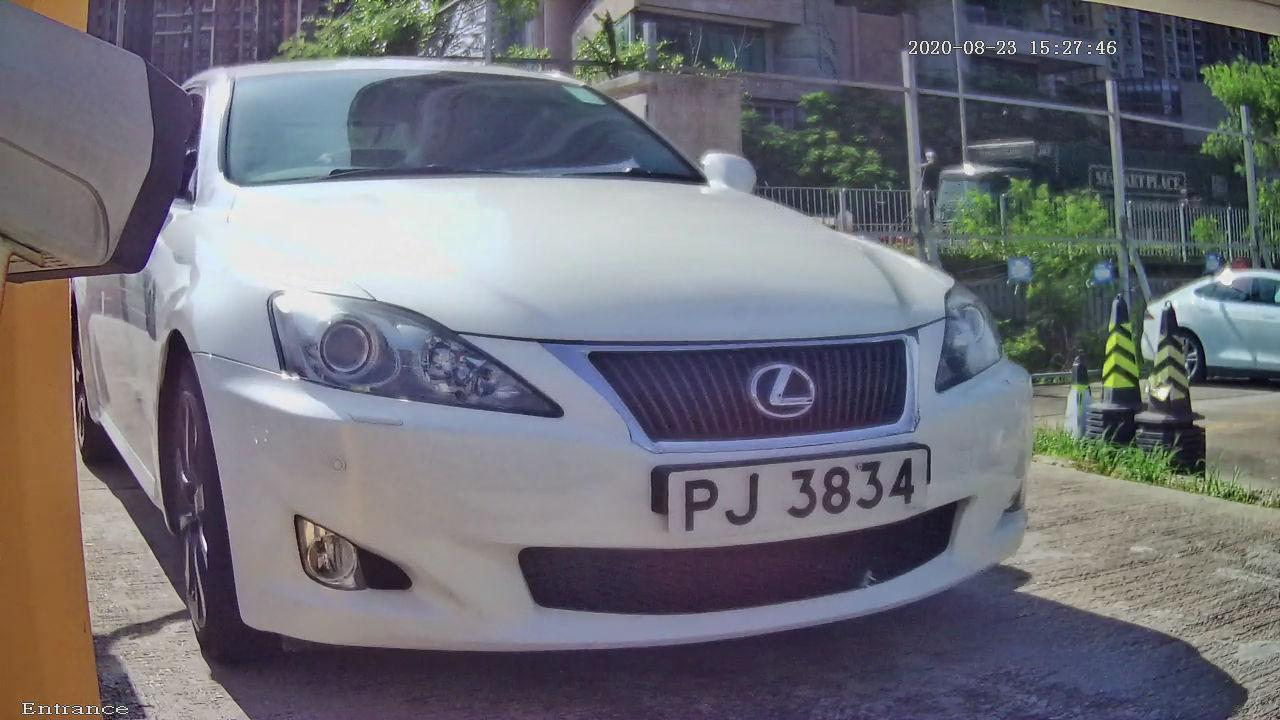Car: (46, 7, 1098, 714)
License Plate: (604, 391, 973, 578)
